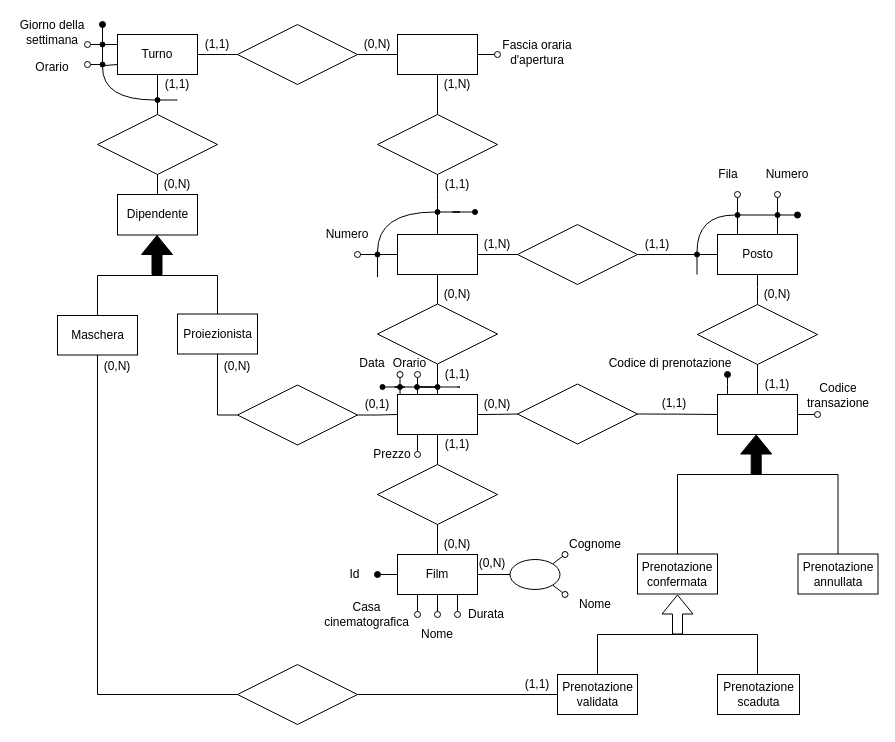
Image size: 895x742. Some labels were removed from this diagram. The shapes that lost their labels are listed below. From the top down, each one's box as (x1, y1, x2, y2) in pixels, then its label:
(396, 34, 478, 74): Cinema
(396, 234, 478, 274): Sala
(396, 394, 478, 434): Proiezione
(716, 394, 798, 434): Prenotazione
(509, 558, 560, 590): Cast
